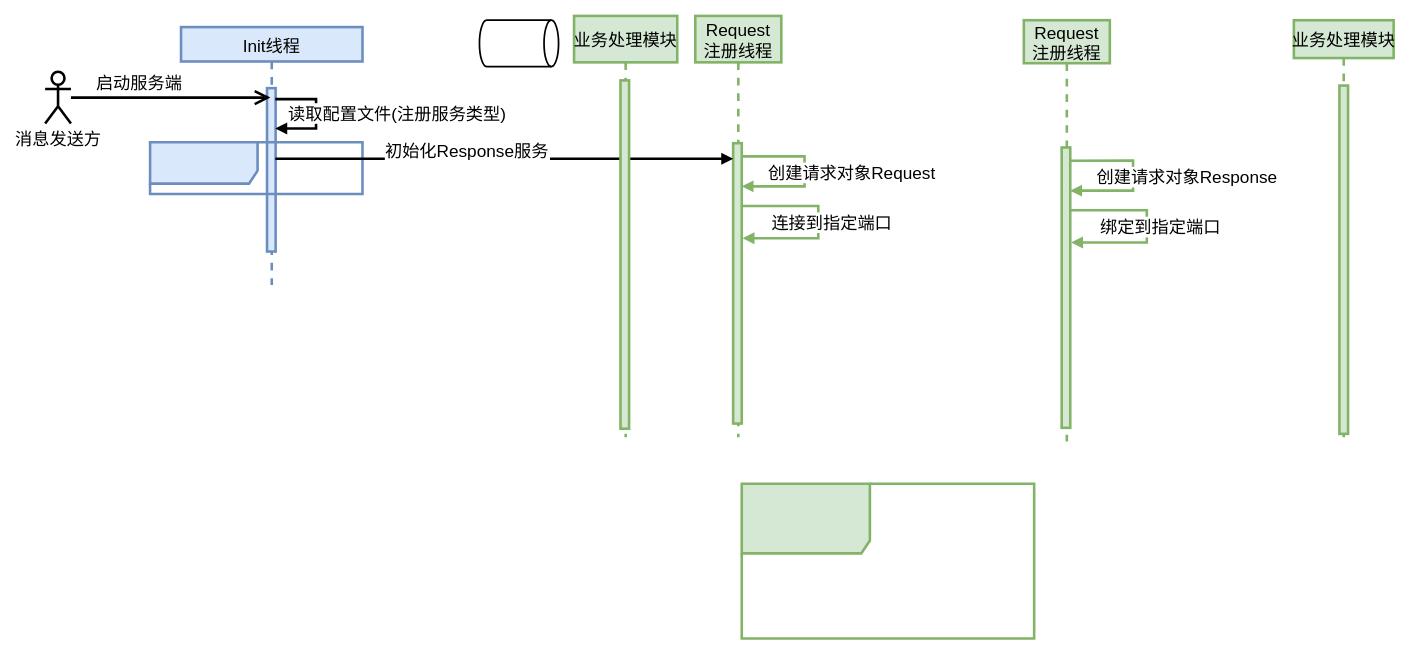
Some shapes in this 1410 by 654 pixel diagram are drawn without their labels. The shapes that lost their labels are listed below. From the top down, each one's centre as x and y in pixels, then its label:
the point at 518,43: 接收 队列
the point at 255,168: Choice [Response]
the point at 887,560: Loop [AppRunning] [阻塞条件]
